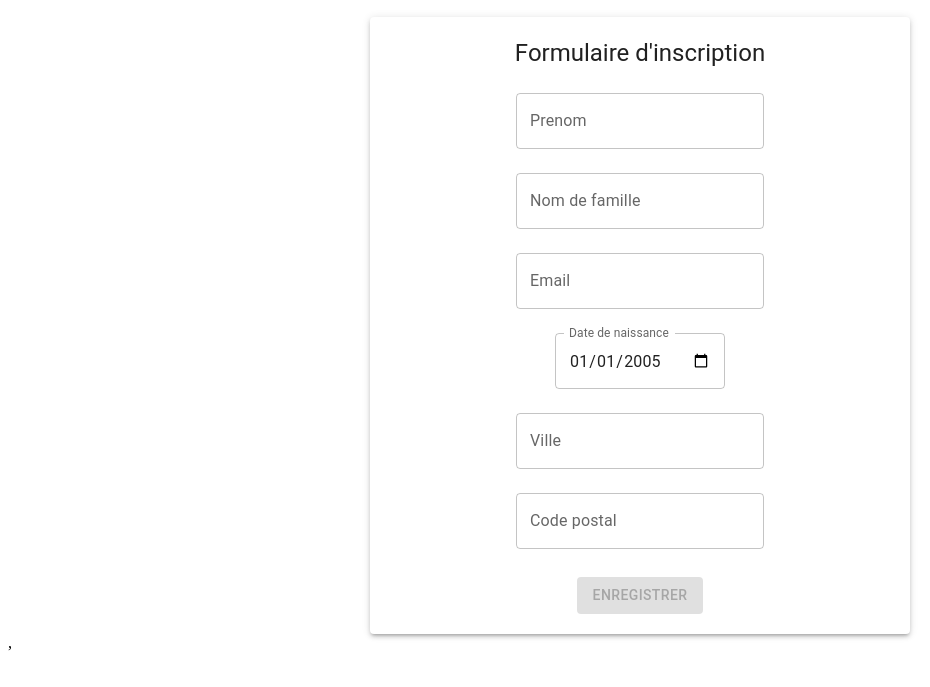
Test case: Registration Form › should display an error if the postal code is not valid
Note: Fill out the form fields
Type "Takwa" into the field named "firstName" at (640, 121), box [516,93,764,149]
Type "Zayene" into the field named "lastName" at (640, 201), box [516,173,764,229]
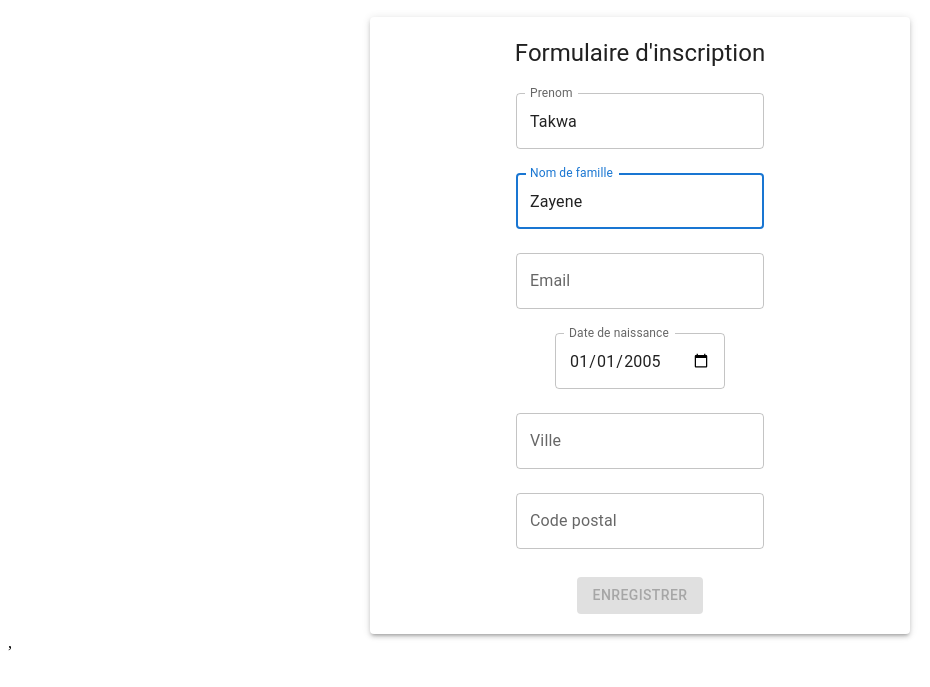
Type "Takwadoe@example.com" into the field named "email" at (640, 281), box [516,253,764,309]
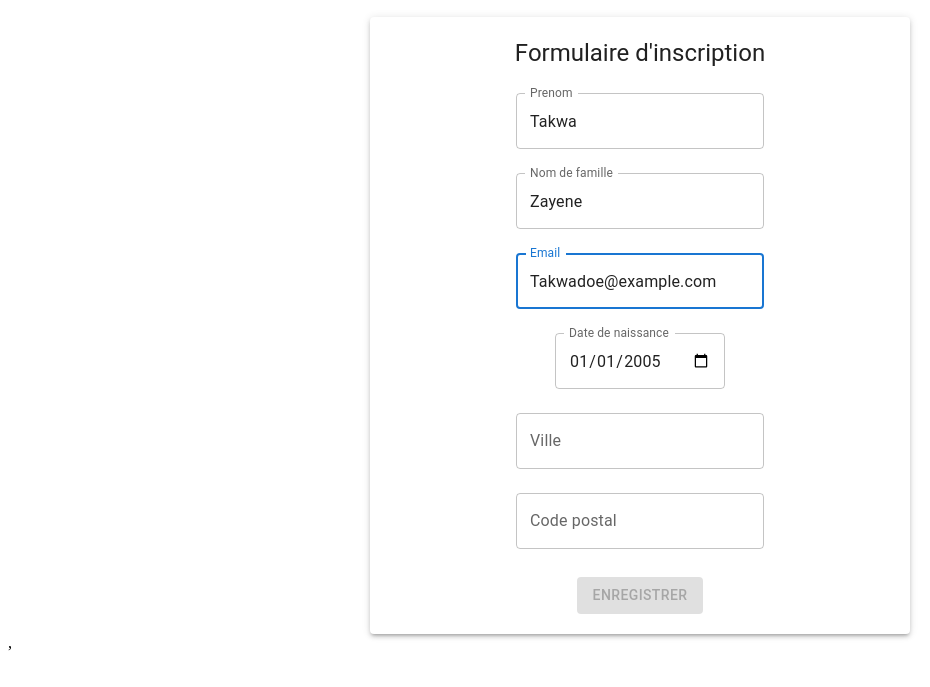
Type "2000-01-01" into the date field named "dateOfBirth" at (640, 361), box [555,333,725,389]
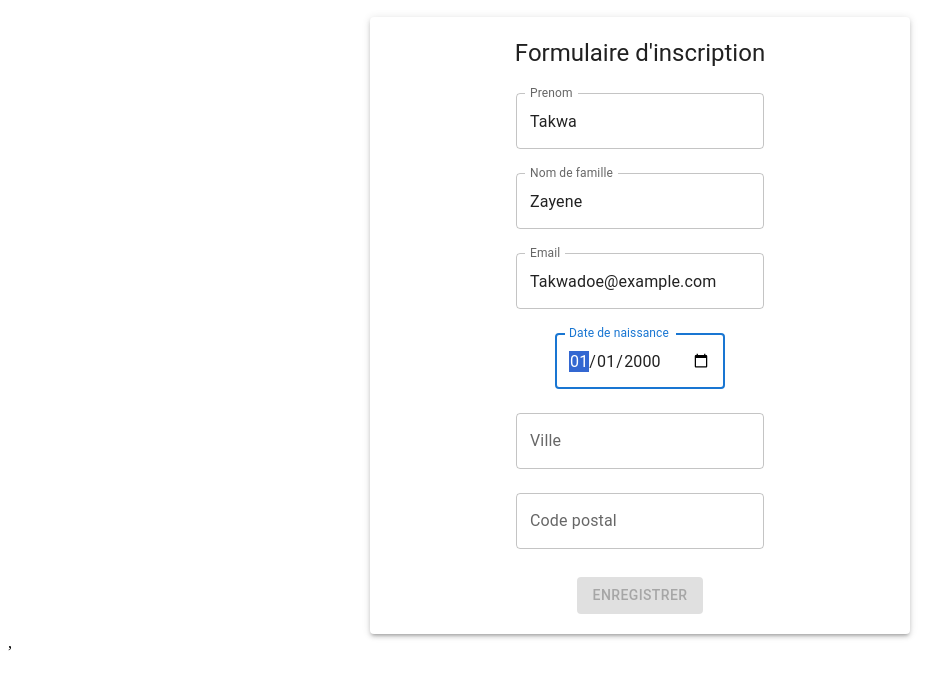
Type "New York" into the field named "city" at (640, 441), box [516,413,764,469]
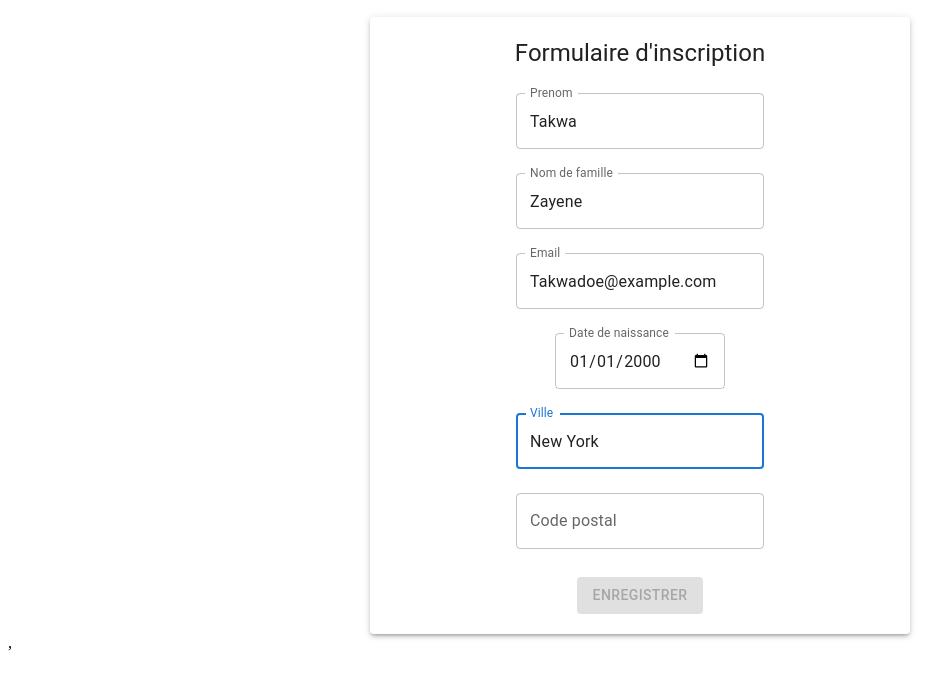
Note: Enter an invalid postal code
Type "123" into the field named "postalCode" at (640, 521), box [516,493,764,549]
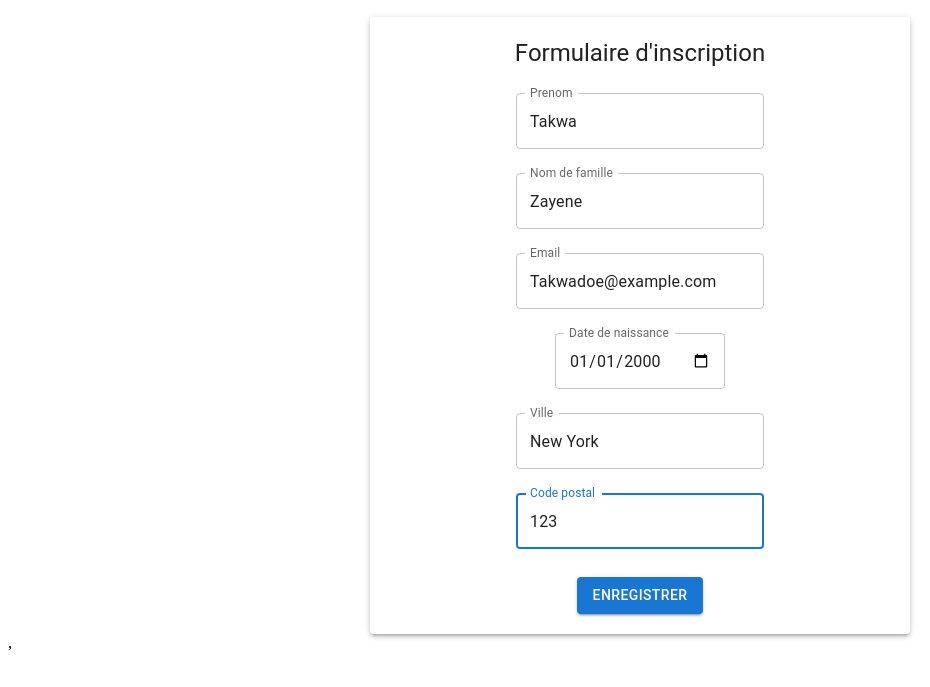
Note: Click the submit button
Click the submit button at (641, 596), box [577,577,704,614]
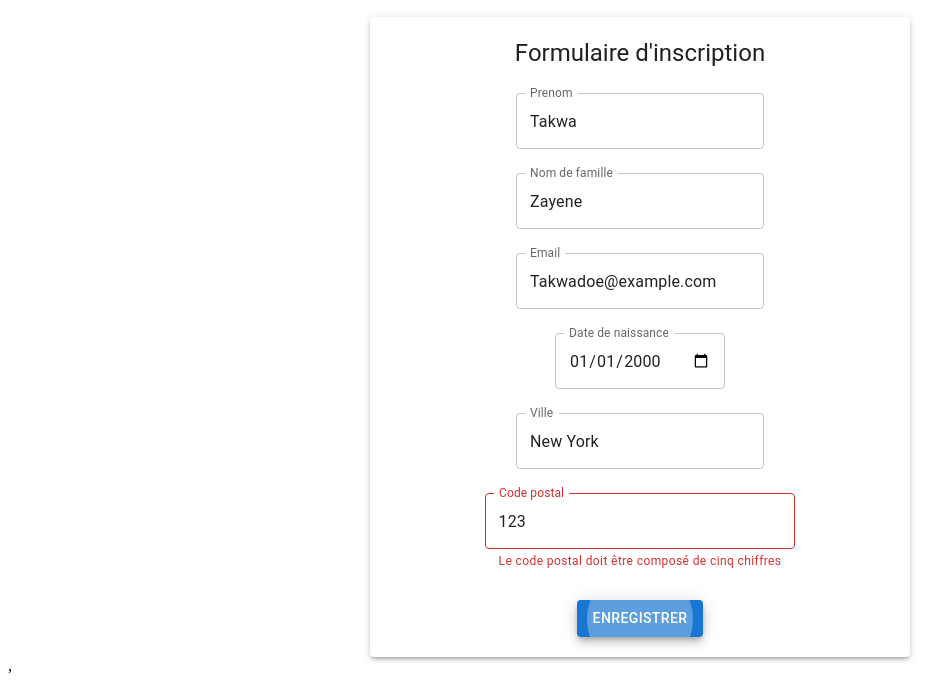
Result: the text "Le code postal doit être composé de cinq chiffres" is shown at [498,552,781,572]
